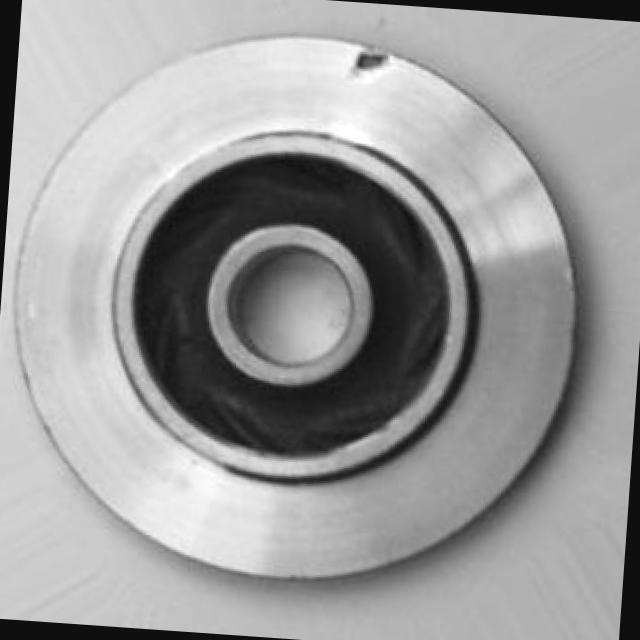Defect: (340, 35, 400, 86)
